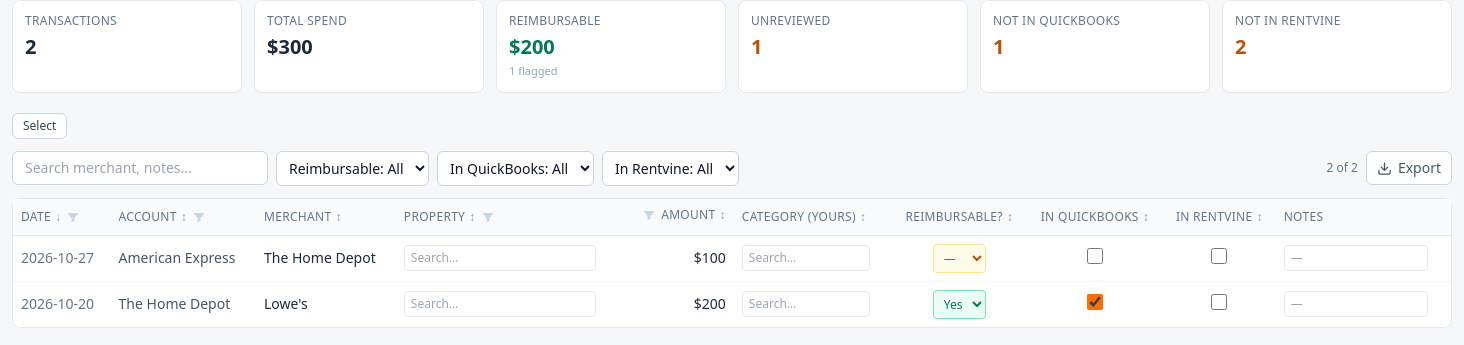
Test case: TransactionsTable › bulk reimbursable › selects several transactions and sets them all reimbursable in one save
Click the button "Select" at (40, 126), box [12,112,67,138]
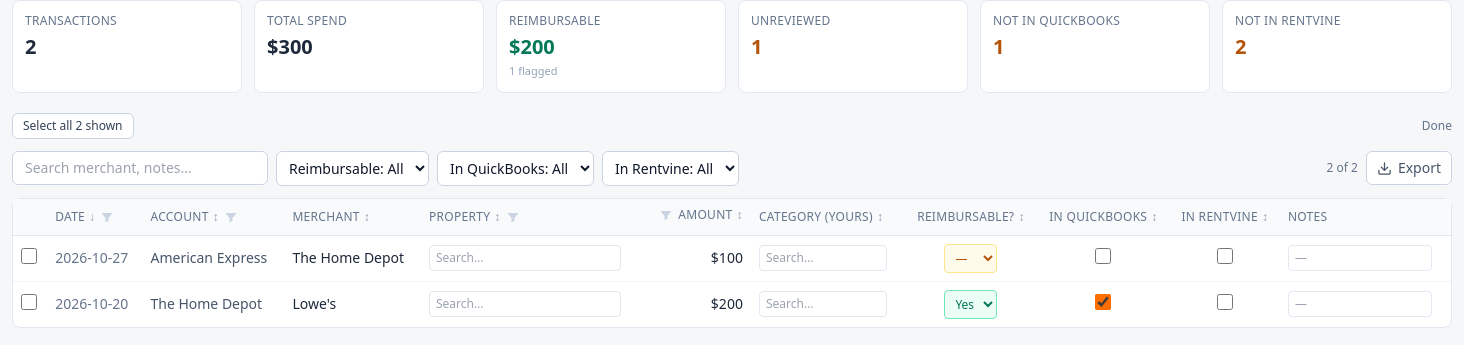
Click the checkbox named "select-t1" at (29, 256), box [21,248,37,264]
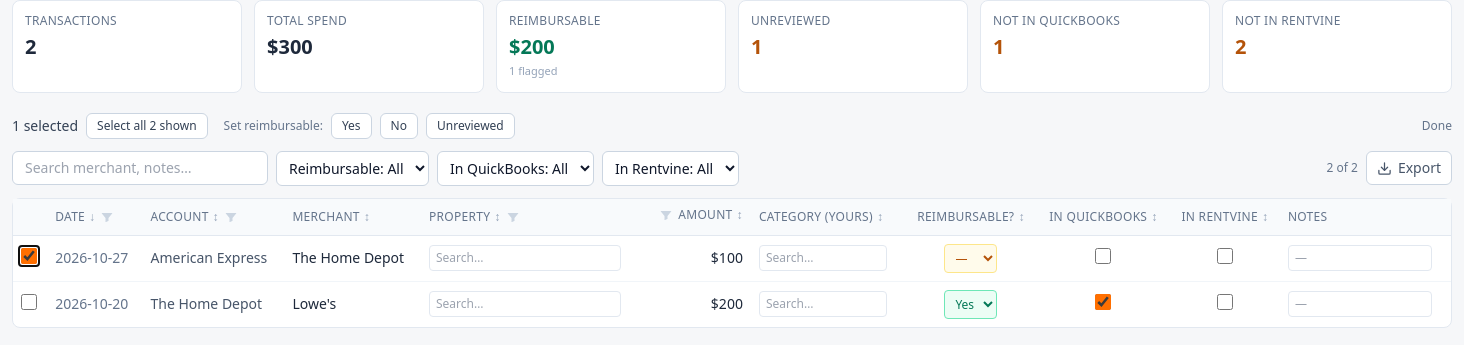
Click the checkbox named "select-t2" at (29, 302), box [21,294,37,310]
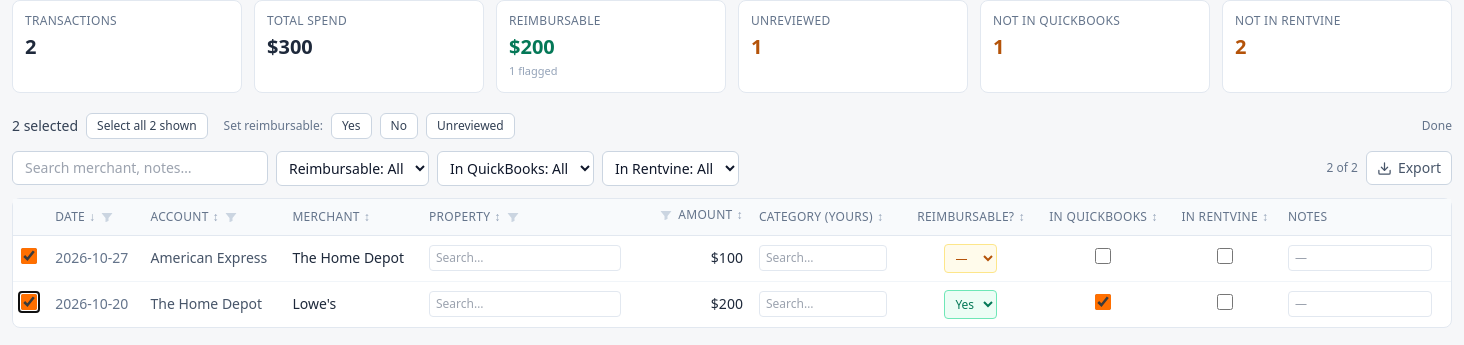
Expected: the text "2 selected" is shown, [12,116,78,136]
Click the button with aria-label "set reimbursable: yes" at (351, 126), box [331,112,372,138]
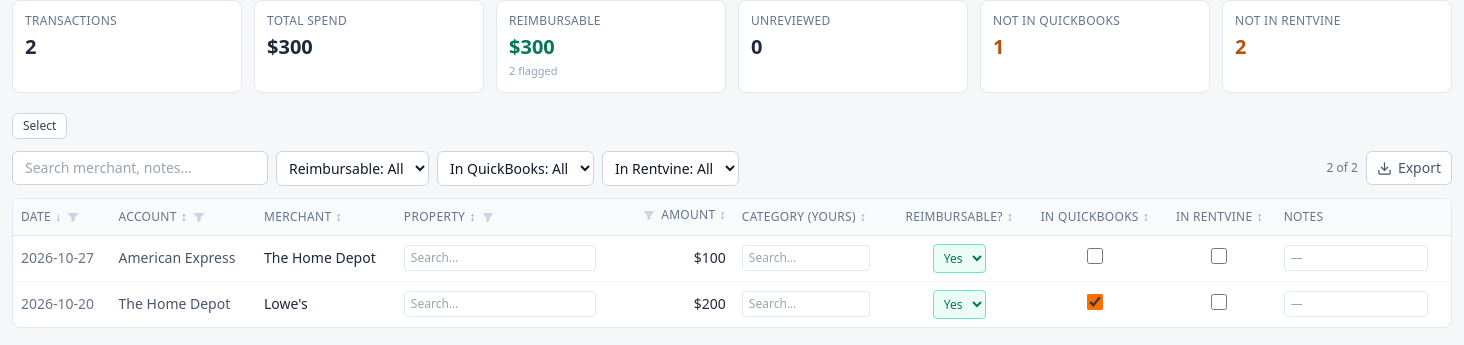
Expected: the dropdown named "reimbursable-t1" shows "Yes", [933,244,986,272]
Expected: the text "selected" is gone
